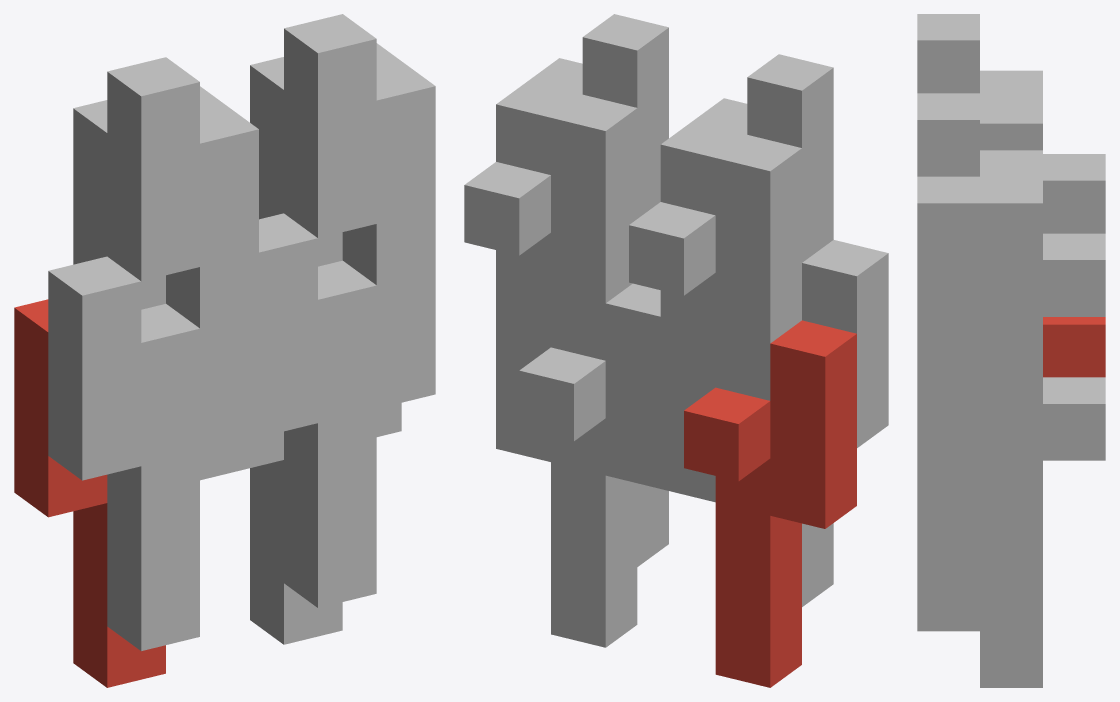
File: tiling.obj
3 renders of one model, left to right at view 1: azimuth 30°, elevation 25°; view 2: azimuth 150°, elevation 25°; view 3: azimuth 270°, elevation 25°, orthographic. The views are drawn at different scales.
Visible parts, largest first — view 1: copy_1_domain_2, copy_1_domain_8, copy_1_domain_4, copy_1_domain_6, copy_1_domain_1, copy_1_domain_5, copy_1_domain_3, copy_1_domain_7; view 2: copy_1_domain_1, copy_1_domain_5, copy_1_domain_3, copy_1_domain_7, copy_1_domain_4, copy_1_domain_8, copy_1_domain_2, copy_1_domain_6; view 3: copy_1_domain_8, copy_1_domain_7, copy_1_domain_5, copy_1_domain_6, copy_1_domain_4, copy_1_domain_3, copy_1_domain_1.
Boxes of the visible parts, box(x1,y1,x2,y2) form: copy_1_domain_2: box(48, 256, 199, 651); copy_1_domain_8: box(284, 14, 435, 408); copy_1_domain_4: box(107, 57, 258, 451); copy_1_domain_6: box(259, 213, 376, 607); copy_1_domain_1: box(14, 299, 165, 687); copy_1_domain_5: box(225, 431, 342, 644); copy_1_domain_3: box(73, 100, 224, 480); copy_1_domain_7: box(250, 57, 401, 436); copy_1_domain_1: box(684, 320, 856, 687); copy_1_domain_5: box(519, 283, 660, 647); copy_1_domain_3: box(629, 134, 801, 502); copy_1_domain_7: box(464, 94, 637, 461); copy_1_domain_4: box(660, 54, 833, 262); copy_1_domain_8: box(496, 14, 668, 218); copy_1_domain_2: box(715, 240, 888, 606); copy_1_domain_6: box(551, 290, 668, 566); copy_1_domain_8: box(917, 93, 1042, 487); copy_1_domain_7: box(980, 150, 1105, 543); copy_1_domain_5: box(980, 377, 1105, 687); copy_1_domain_6: box(917, 487, 979, 631); copy_1_domain_4: box(917, 14, 1042, 150); copy_1_domain_3: box(980, 70, 1105, 233); copy_1_domain_1: box(1043, 317, 1105, 377).
Size of the model in its own units: 6 by 10 by 3.
